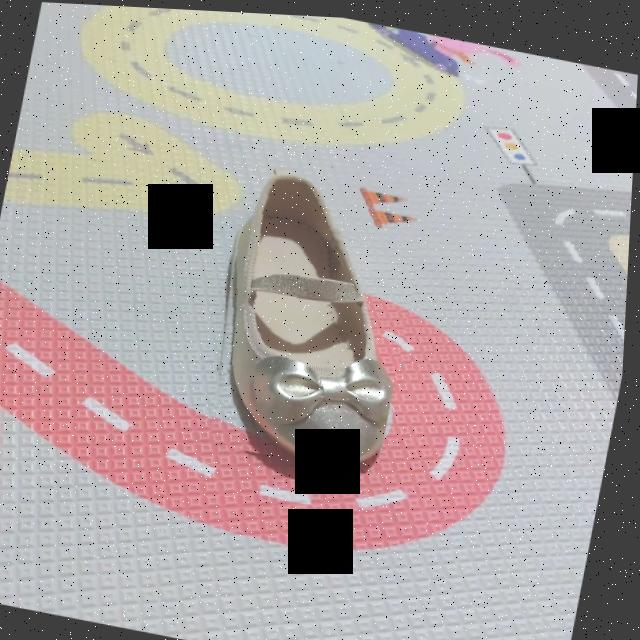shoe: (197, 157, 433, 473)
